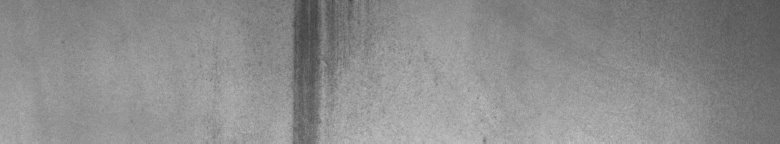ka: (280, 4, 359, 136)
